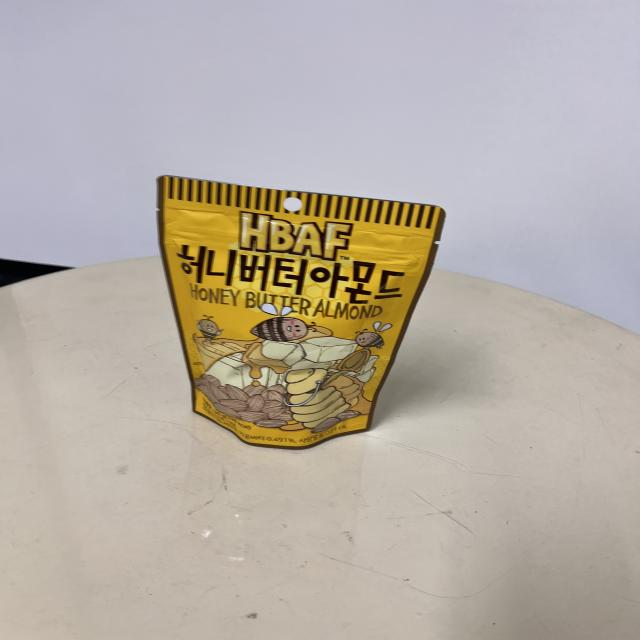honeyAmond: (155, 173, 424, 445)
